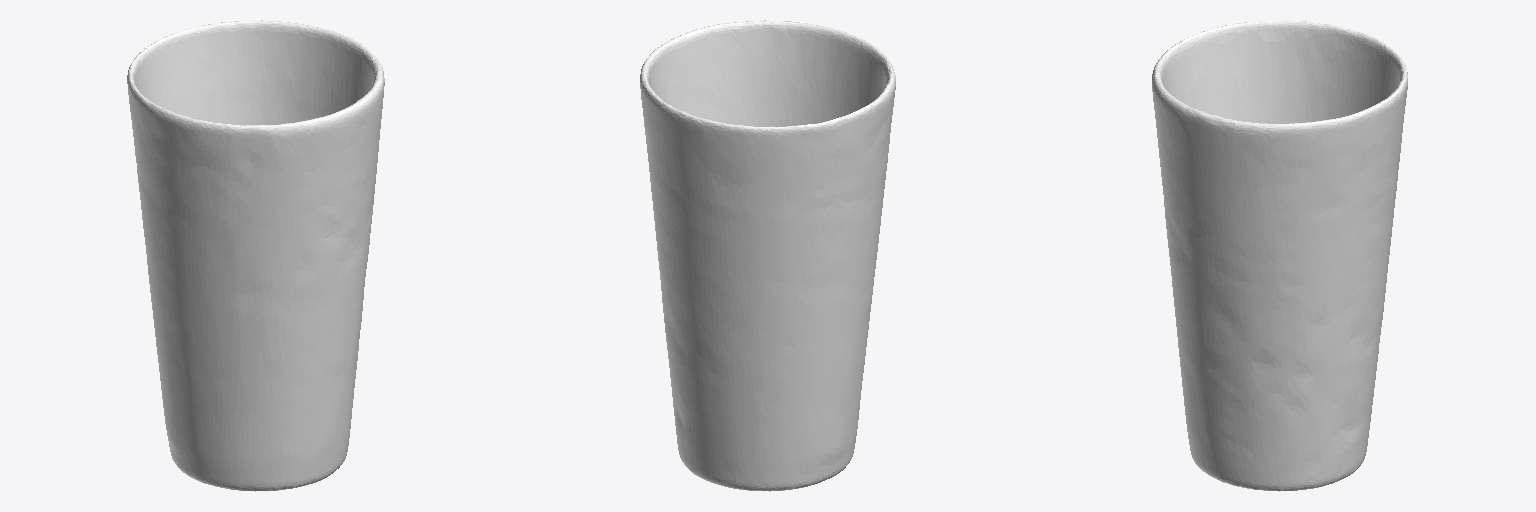
The robot description file, URDF, robot "131_large_glass_cup_0":
<?xml version='1.0' encoding='utf-8'?>
<robot name="131_large_glass_cup_0">
        <link name="link_0">
            <visual>
                <origin xyz="0.0 0.0 0.0" rpy="0.0 0.0 0.0" />
                <geometry>
                    <mesh filename="textured_objs/textured.obj" scale="1 1 1.0" />
                </geometry>
                <material name="white">
                    <color rgba="1 1 1 1" />
                </material>
            </visual>
            <collision>
                <origin xyz="0.0 0.0 0.0" rpy="0.0 0.0 0.0" />
                <geometry>
                    <mesh filename="textured_objs/textured.obj" scale="1 1 1.0" />
                </geometry>
            </collision>
            <inertial>
                <mass value="0.1" />
                <inertia ixx="0.0001" ixy="0.0" ixz="0.0" iyy="0.0001" iyz="0.0" izz="0.0001" />
            </inertial>
        </link>
    </robot>

--- Render facts (derived) ---
Views: 3 orthographic renders of the robot side by side, from view 1: azimuth 30°, elevation 25°; view 2: azimuth 150°, elevation 25°; view 3: azimuth 270°, elevation 25°.
Robot: 131_large_glass_cup_0 — 1 links, 0 joints (none); root link link_0; default pose: every joint at zero.
Visible links, largest first — view 1: link_0; view 2: link_0; view 3: link_0.
Boxes of the visible links, box(x1,y1,x2,y2) form: link_0: box(127, 20, 384, 491); link_0: box(640, 20, 895, 491); link_0: box(1152, 20, 1407, 491).
Bounding box of the posed robot: 0.0869 × 0.0871 × 0.1444 m (x, y, z).
Meshes: 1 distinct files referenced, 1 mesh visuals loaded (1 OBJ).